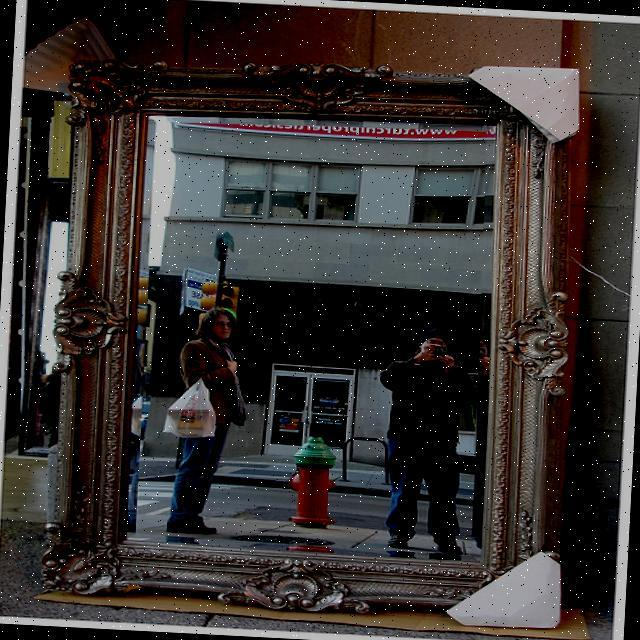fire_hydrant: (284, 433, 338, 529)
